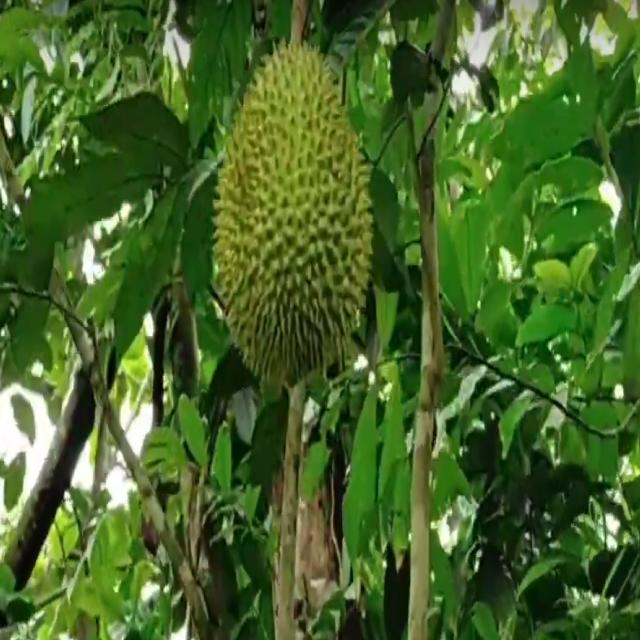immature: (214, 36, 373, 384)
